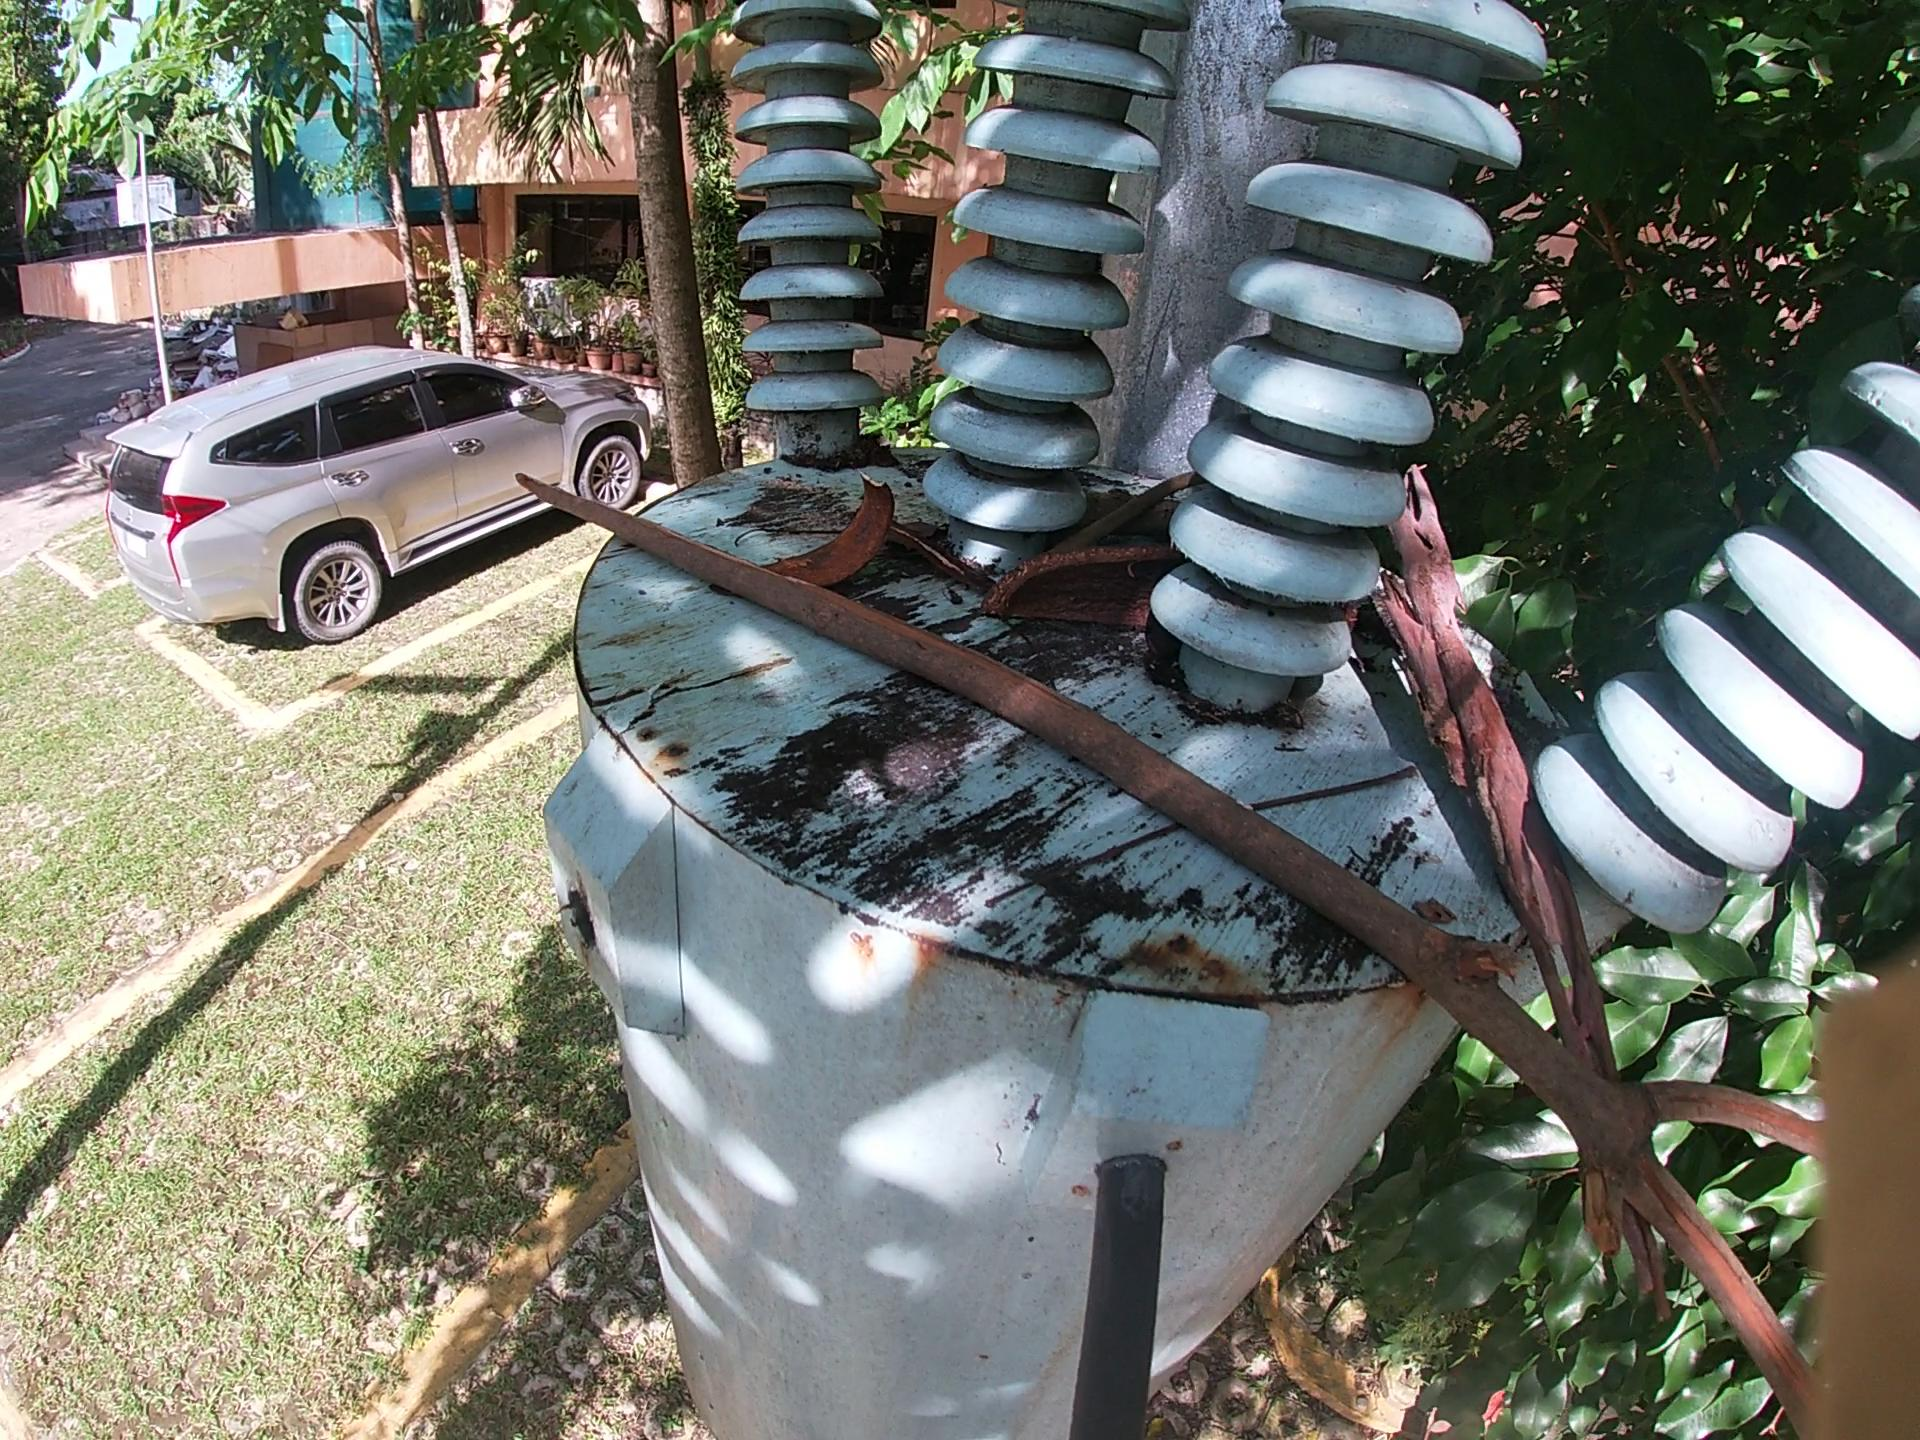mahogany fruit: (974, 555, 1166, 641), (768, 469, 918, 579)
tree branch: (506, 472, 1863, 1429), (1380, 476, 1705, 1330), (1004, 743, 1469, 914), (1048, 466, 1196, 538), (903, 529, 981, 591), (1070, 505, 1194, 532), (738, 516, 839, 542)
